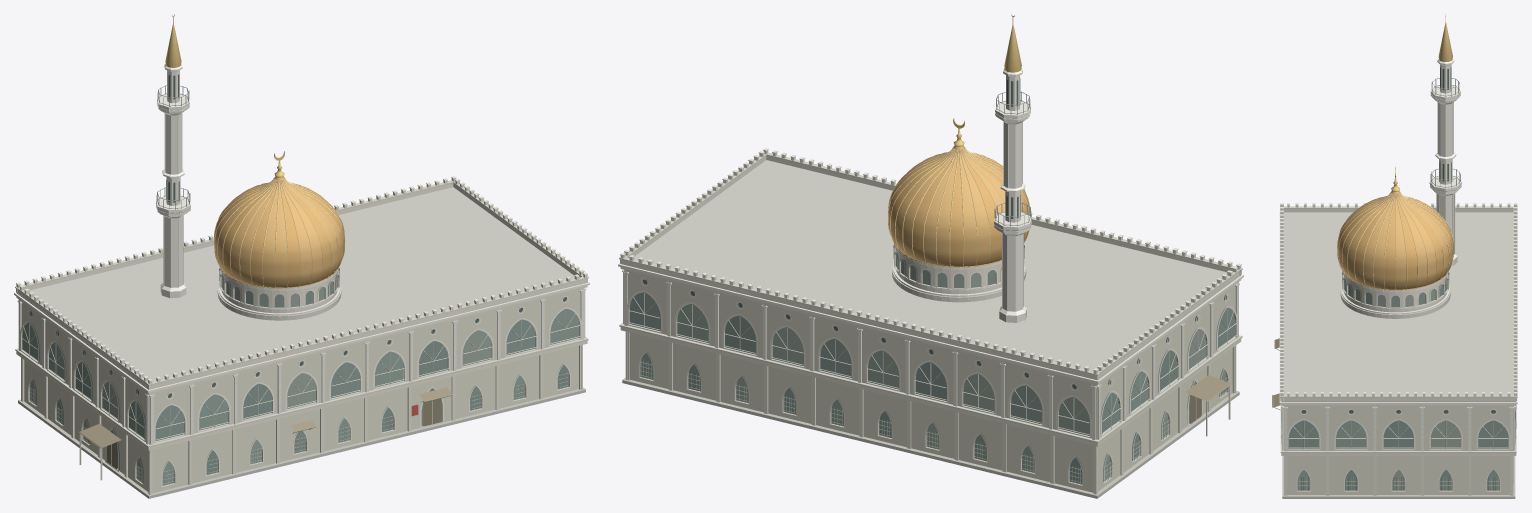
3 views of the same model, side by side, from view 1: azimuth 30°, elevation 25°; view 2: azimuth 150°, elevation 25°; view 3: azimuth 270°, elevation 25° (orthographic). The views are drawn at different scales.
Visible parts, largest first — view 1: NabiSainMosque - flat roof slab, NabiSainMosque - ground storey, NabiSainMosque - upper prayer hall, NabiSainMosque - golden onion dome, NabiSainMosque - large pointed windows glass, NabiSainMosque - roof perimeter parapet, NabiSainMosque - upper wall pilasters, NabiSainMosque - building footing, NabiSainMosque - large pointed windows ivory arch trim, NabiSainMosque - parapet coping, NabiSainMosque - ground floor vertical piers, NabiSainMosque - small ground floor windows glass (+22 smaller); view 2: NabiSainMosque - flat roof slab, NabiSainMosque - ground storey, NabiSainMosque - upper prayer hall, NabiSainMosque - large pointed windows glass, NabiSainMosque - golden onion dome, NabiSainMosque - roof perimeter parapet, NabiSainMosque - building footing, NabiSainMosque - upper wall pilasters, NabiSainMosque - parapet coping, NabiSainMosque - small ground floor windows glass, NabiSainMosque - large pointed windows ivory arch trim, NabiSainMosque - ground floor vertical piers (+19 smaller); view 3: NabiSainMosque - flat roof slab, NabiSainMosque - golden onion dome, NabiSainMosque - ground storey, NabiSainMosque - upper prayer hall, NabiSainMosque - large pointed windows glass, NabiSainMosque - raised golden dome ribs, NabiSainMosque - crenellation caps, NabiSainMosque - roof perimeter parapet, NabiSainMosque - parapet coping, NabiSainMosque - small roof crenellations, NabiSainMosque - small ground floor windows glass, NabiSainMosque - building footing (+23 smaller).
Boxes of the visible parts, left/top/right/bottom form: NabiSainMosque - flat roof slab: left=17, top=187, right=584, bottom=389; NabiSainMosque - ground storey: left=24, top=346, right=578, bottom=492; NabiSainMosque - upper prayer hall: left=20, top=288, right=584, bottom=444; NabiSainMosque - golden onion dome: left=214, top=176, right=344, bottom=287; NabiSainMosque - large pointed windows glass: left=22, top=309, right=579, bottom=440; NabiSainMosque - roof perimeter parapet: left=16, top=183, right=587, bottom=389; NabiSainMosque - upper wall pilasters: left=18, top=291, right=585, bottom=444; NabiSainMosque - building footing: left=18, top=387, right=585, bottom=498; NabiSainMosque - large pointed windows ivory arch trim: left=20, top=307, right=581, bottom=443; NabiSainMosque - parapet coping: left=15, top=180, right=588, bottom=385; NabiSainMosque - ground floor vertical piers: left=21, top=345, right=582, bottom=494; NabiSainMosque - small ground floor windows glass: left=30, top=364, right=569, bottom=485; NabiSainMosque - flat roof slab: left=621, top=160, right=1240, bottom=380; NabiSainMosque - ground storey: left=629, top=332, right=1232, bottom=492; NabiSainMosque - upper prayer hall: left=627, top=270, right=1236, bottom=439; NabiSainMosque - large pointed windows glass: left=629, top=292, right=1234, bottom=435; NabiSainMosque - golden onion dome: left=888, top=146, right=1029, bottom=266; NabiSainMosque - roof perimeter parapet: left=620, top=155, right=1241, bottom=379; NabiSainMosque - building footing: left=622, top=378, right=1239, bottom=498; NabiSainMosque - upper wall pilasters: left=623, top=273, right=1238, bottom=440; NabiSainMosque - parapet coping: left=619, top=152, right=1242, bottom=375; NabiSainMosque - small ground floor windows glass: left=640, top=352, right=1226, bottom=484; NabiSainMosque - large pointed windows ivory arch trim: left=627, top=290, right=1237, bottom=438; NabiSainMosque - ground floor vertical piers: left=625, top=331, right=1236, bottom=494; NabiSainMosque - flat roof slab: left=1281, top=212, right=1515, bottom=401; NabiSainMosque - golden onion dome: left=1337, top=191, right=1453, bottom=289; NabiSainMosque - ground storey: left=1287, top=456, right=1509, bottom=494; NabiSainMosque - upper prayer hall: left=1283, top=406, right=1513, bottom=450; NabiSainMosque - large pointed windows glass: left=1288, top=420, right=1508, bottom=449; NabiSainMosque - raised golden dome ribs: left=1337, top=191, right=1453, bottom=289; NabiSainMosque - crenellation caps: left=1280, top=203, right=1517, bottom=394; NabiSainMosque - roof perimeter parapet: left=1280, top=209, right=1516, bottom=401; NabiSainMosque - parapet coping: left=1280, top=206, right=1517, bottom=397; NabiSainMosque - small roof crenellations: left=1280, top=205, right=1517, bottom=396; NabiSainMosque - small ground floor windows glass: left=1297, top=469, right=1499, bottom=490; NabiSainMosque - building footing: left=1282, top=456, right=1515, bottom=498.
Size of the model in its own units: 38.1 by 30.76 by 19.81.
